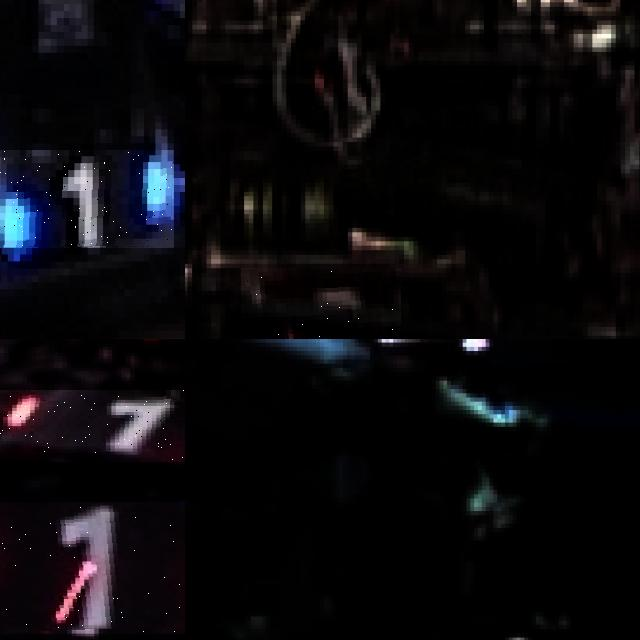B1: (0, 150, 173, 247)
R1: (0, 502, 185, 633), (0, 389, 185, 462)
R2: (241, 268, 401, 339)
